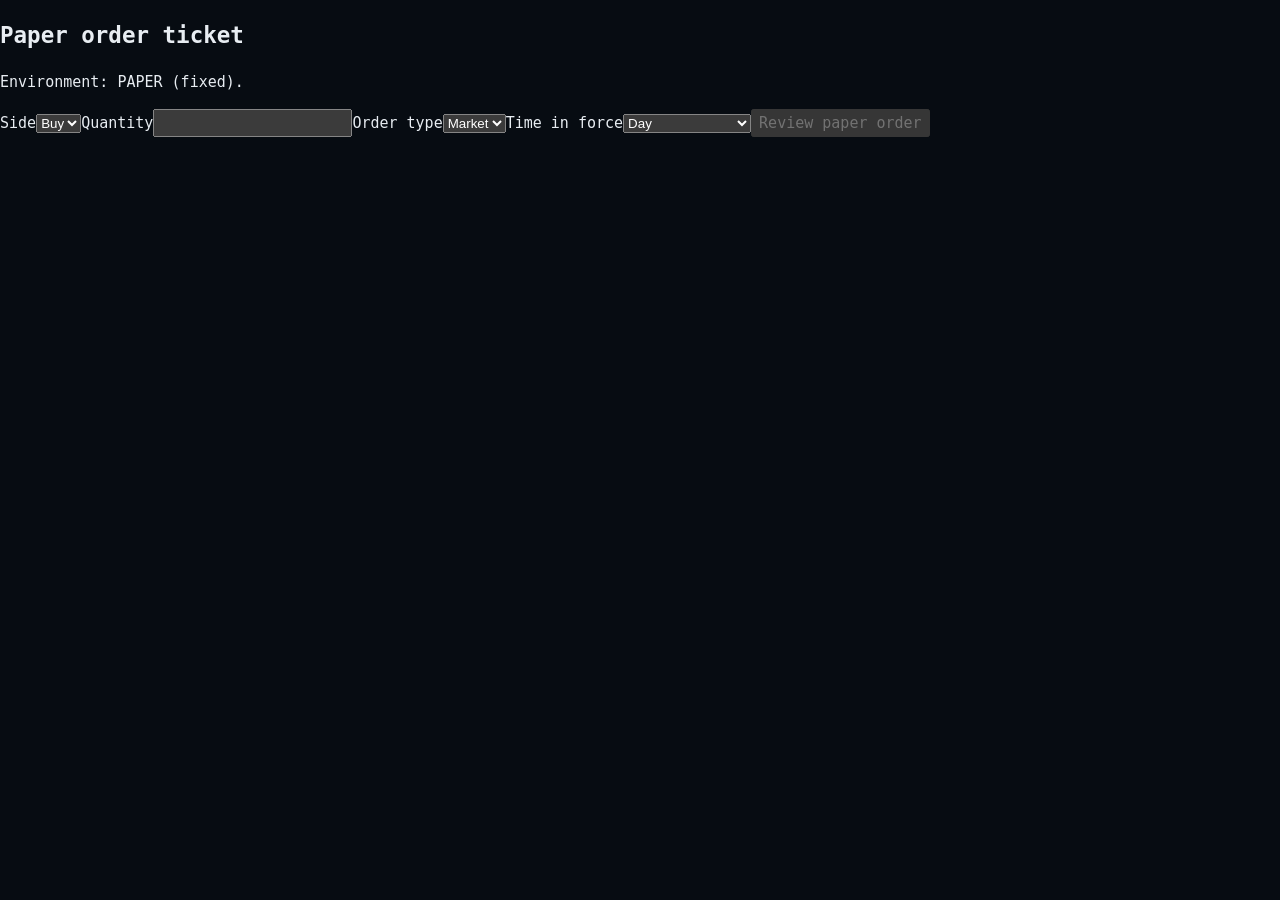
it: PaperOrderTicketView › does not render credential-shaped server order identifiers
The image size is (1280, 900).
Type "1" into the field labelled "Quantity" at coordinates (253, 123), box [153, 109, 352, 137]
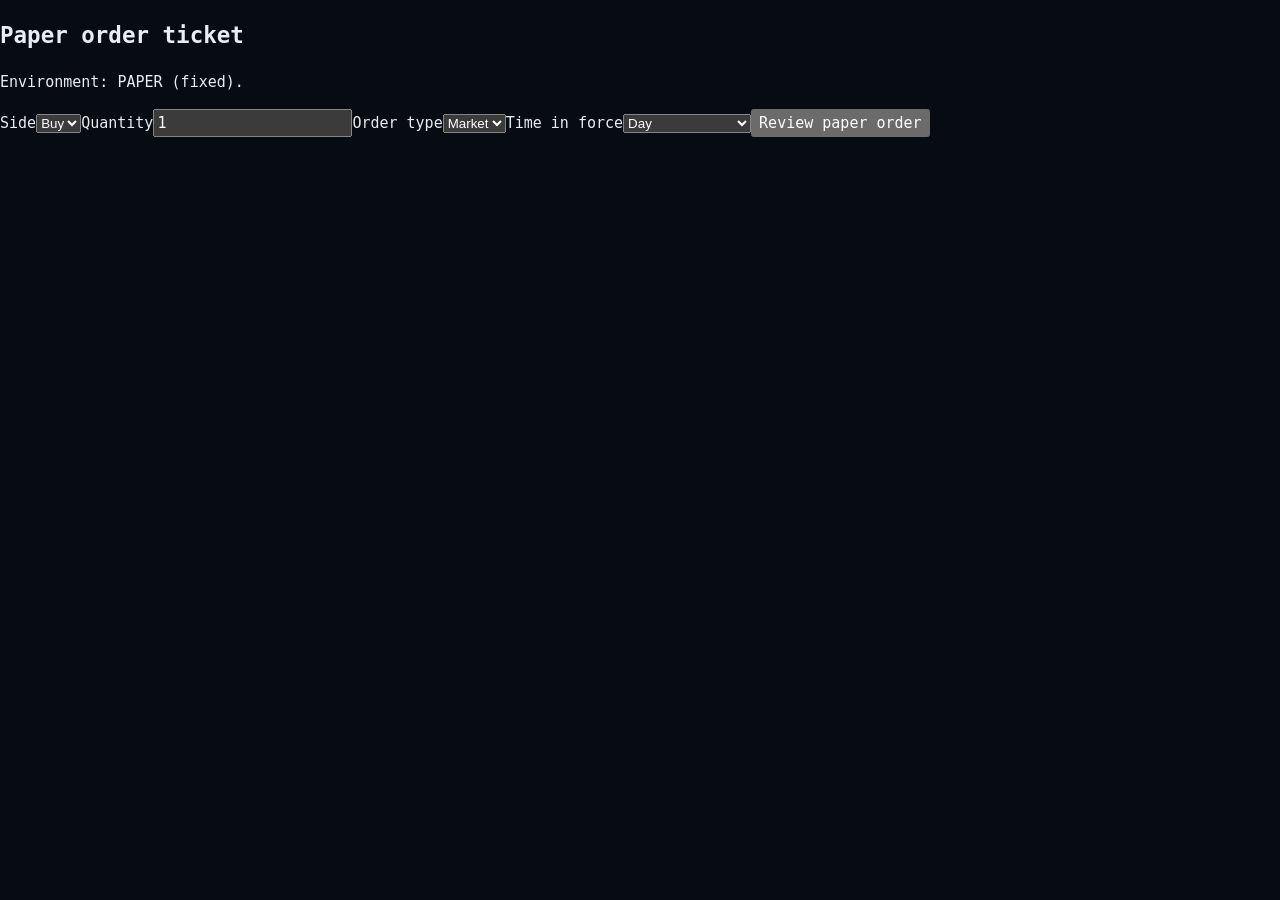
Click the button "Review paper order" at coordinates (840, 123), box [751, 109, 930, 137]
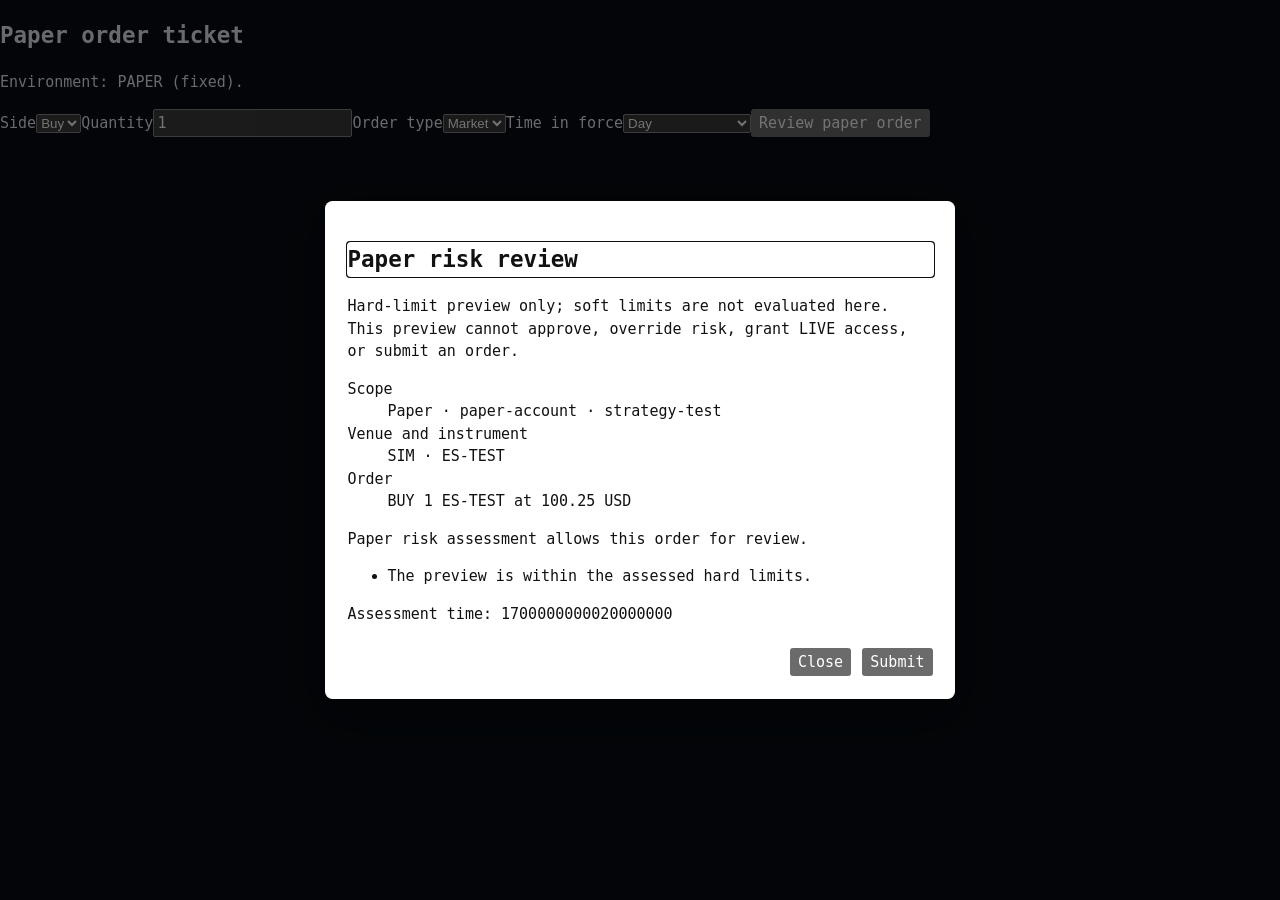
Now the dialog "Paper risk review" is shown, box [325, 202, 955, 699]
Now the button "Submit" is enabled
Click the button "Submit" at coordinates (897, 662), box [862, 648, 932, 676]
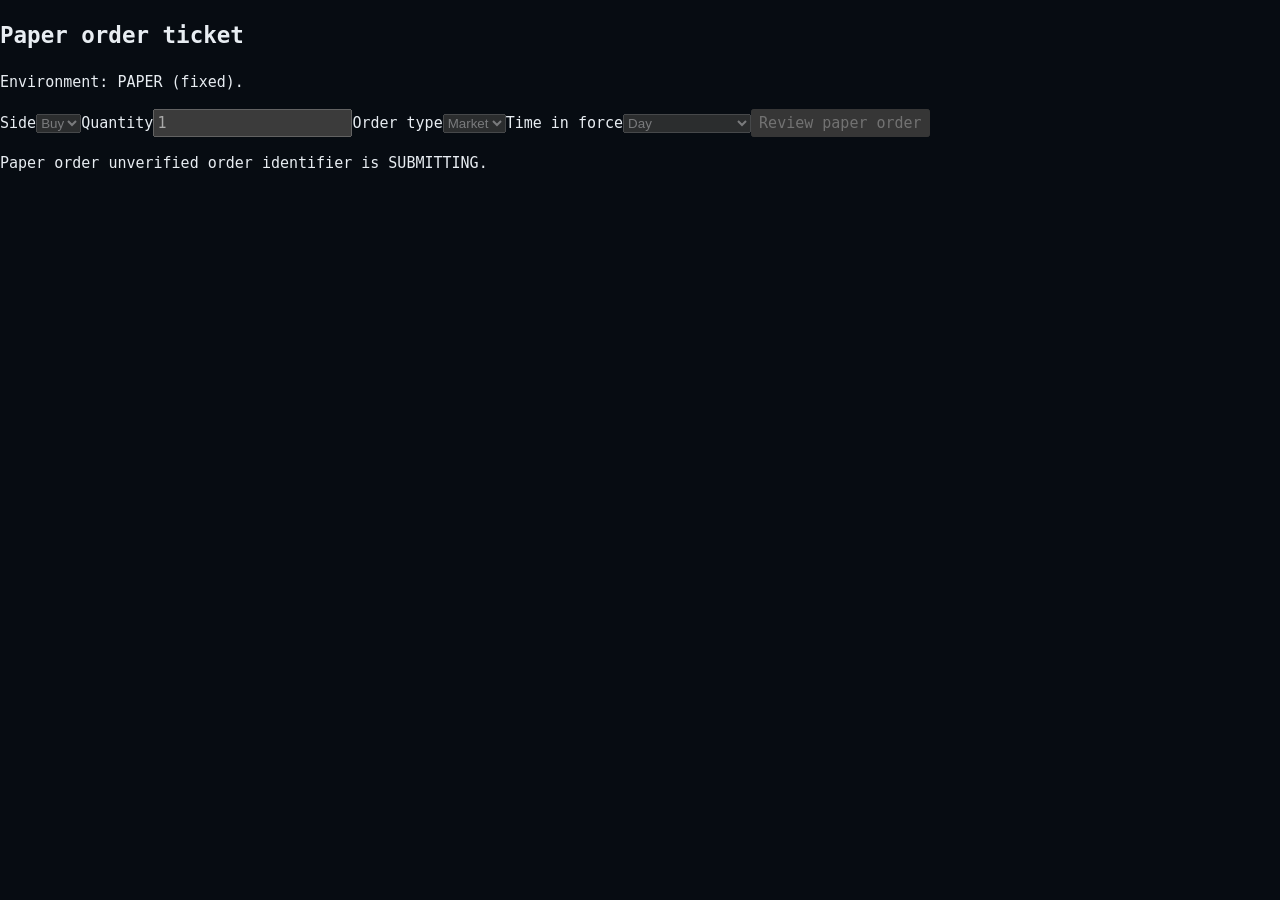
Now the text "Paper order unverified order identifier is SUBMITTING." is shown, box [0, 154, 488, 172]
